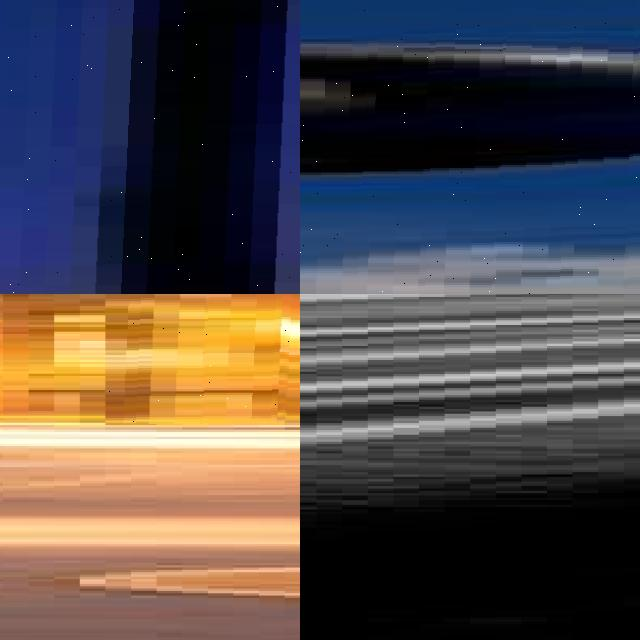street light: (300, 1, 640, 294), (0, 0, 300, 294), (108, 294, 294, 425)
